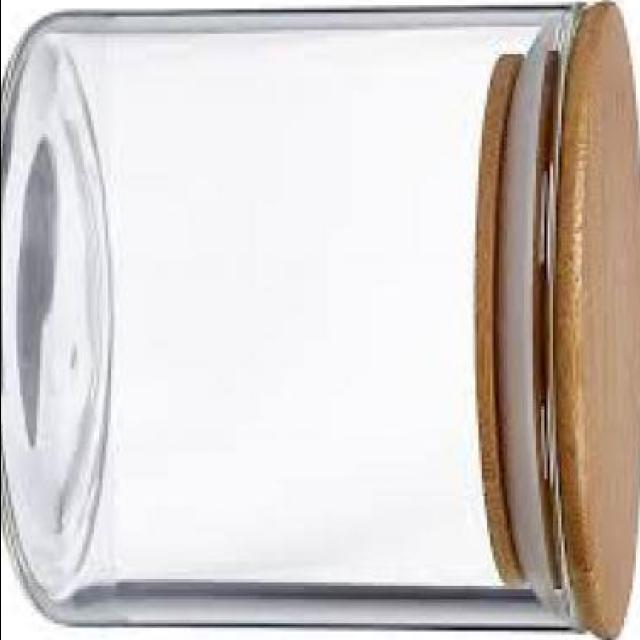kaca: (0, 12, 583, 637)
